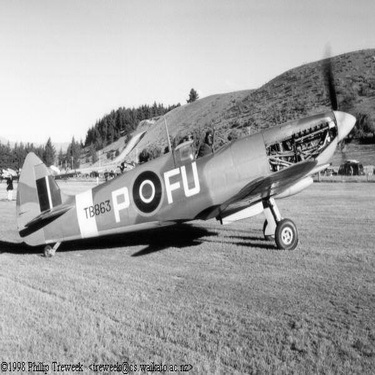airplane: (7, 48, 358, 260)
